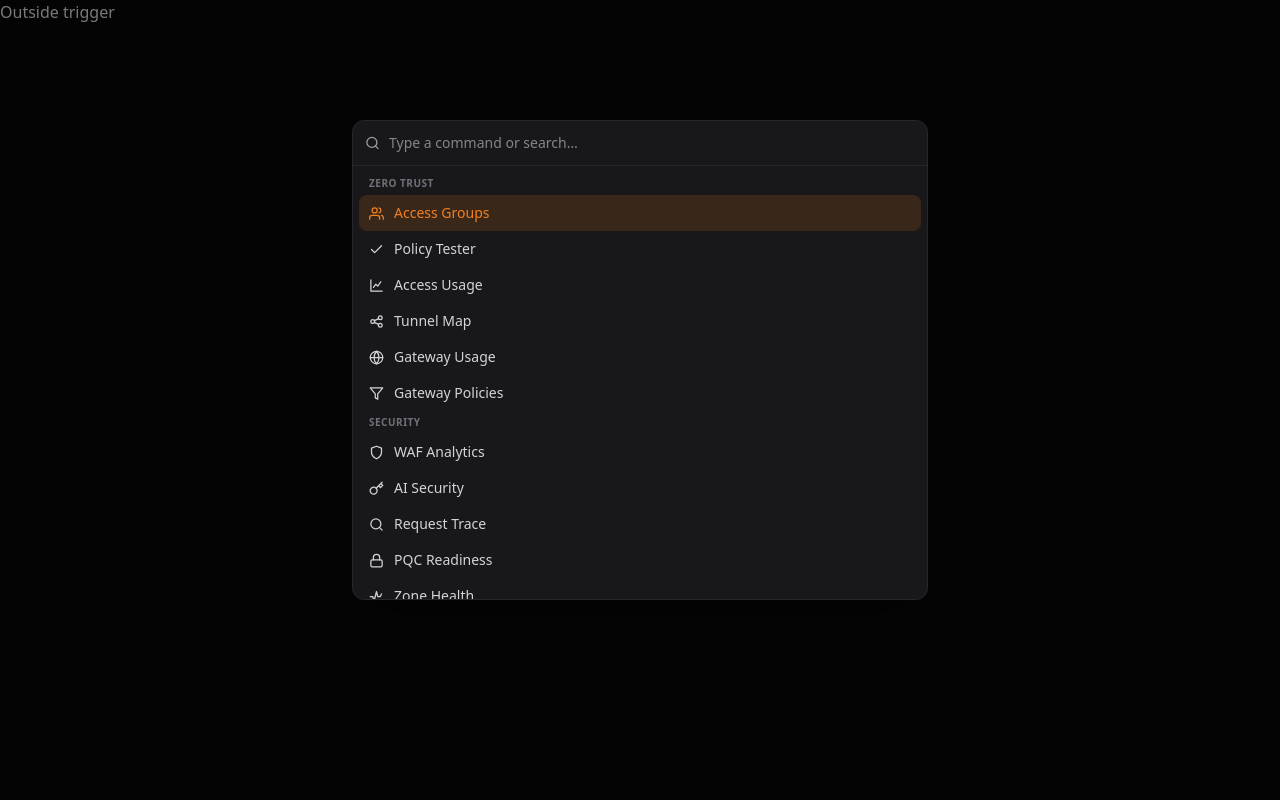
Test: CommandPalette › closes on backdrop click
Step 1. Click the button named "Close command palette" → [77, 400], box [0,0,1279,799]
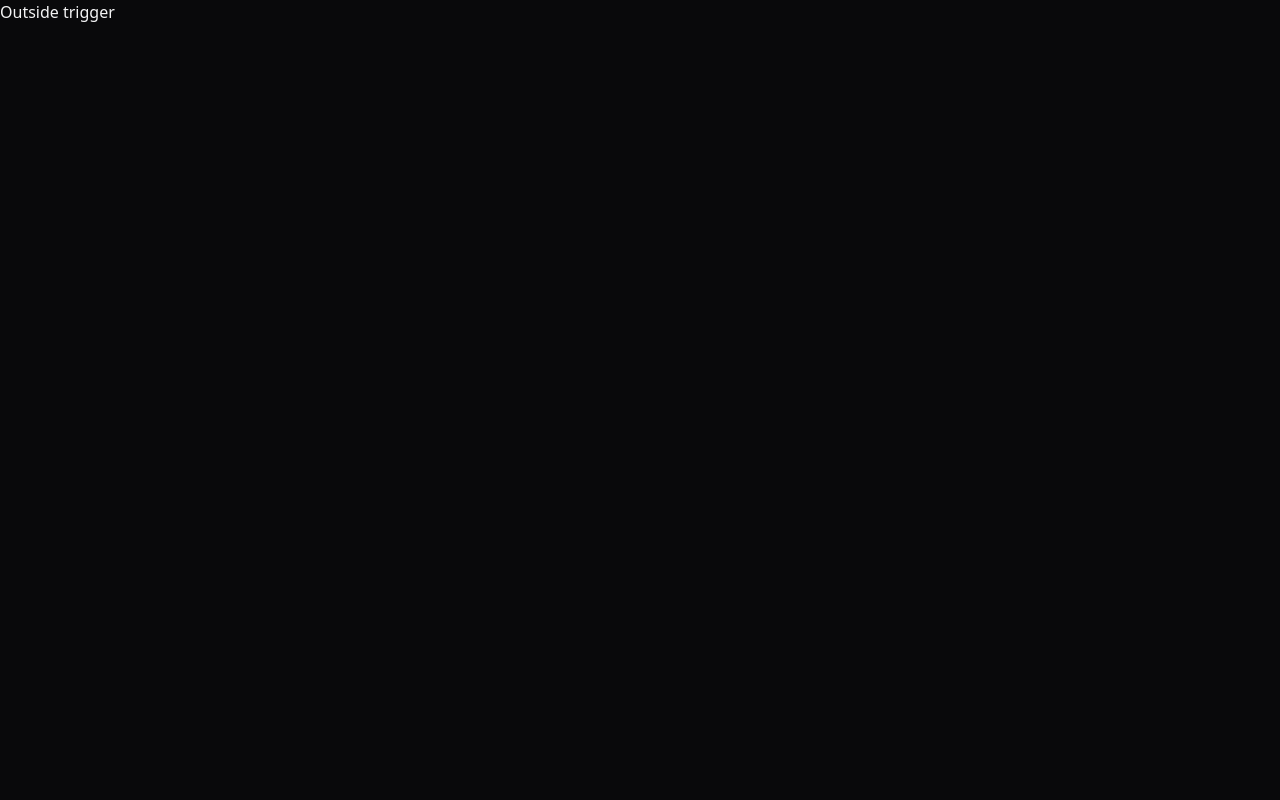
Now the dialog is gone
